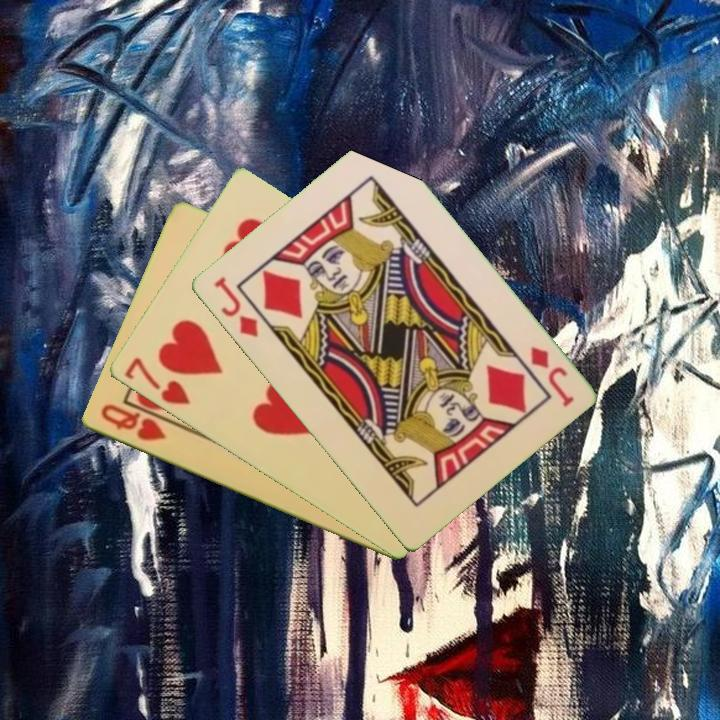7h: (120, 353, 193, 408)
Jd: (526, 342, 577, 411), (210, 273, 261, 341)
Qh: (96, 400, 169, 444)
